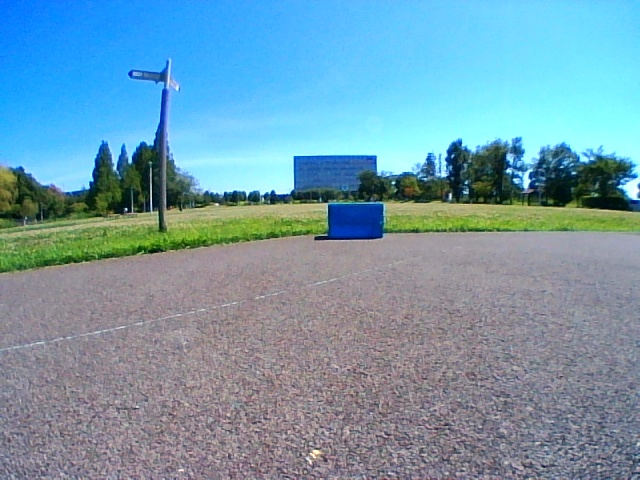blue_box: (329, 203, 382, 238)
